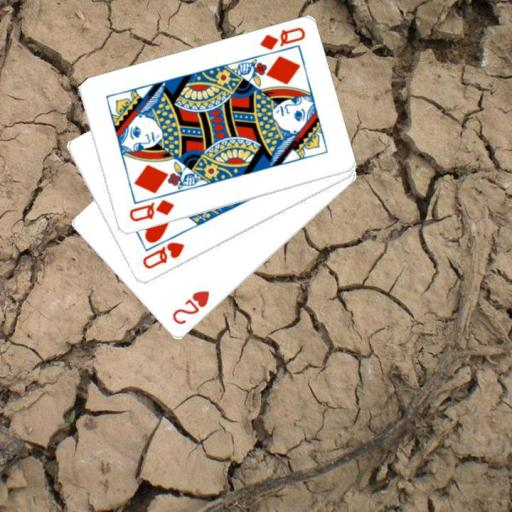2H: (169, 287, 211, 327)
QD: (126, 196, 176, 224), (256, 24, 306, 52)
QH: (139, 239, 186, 271)
